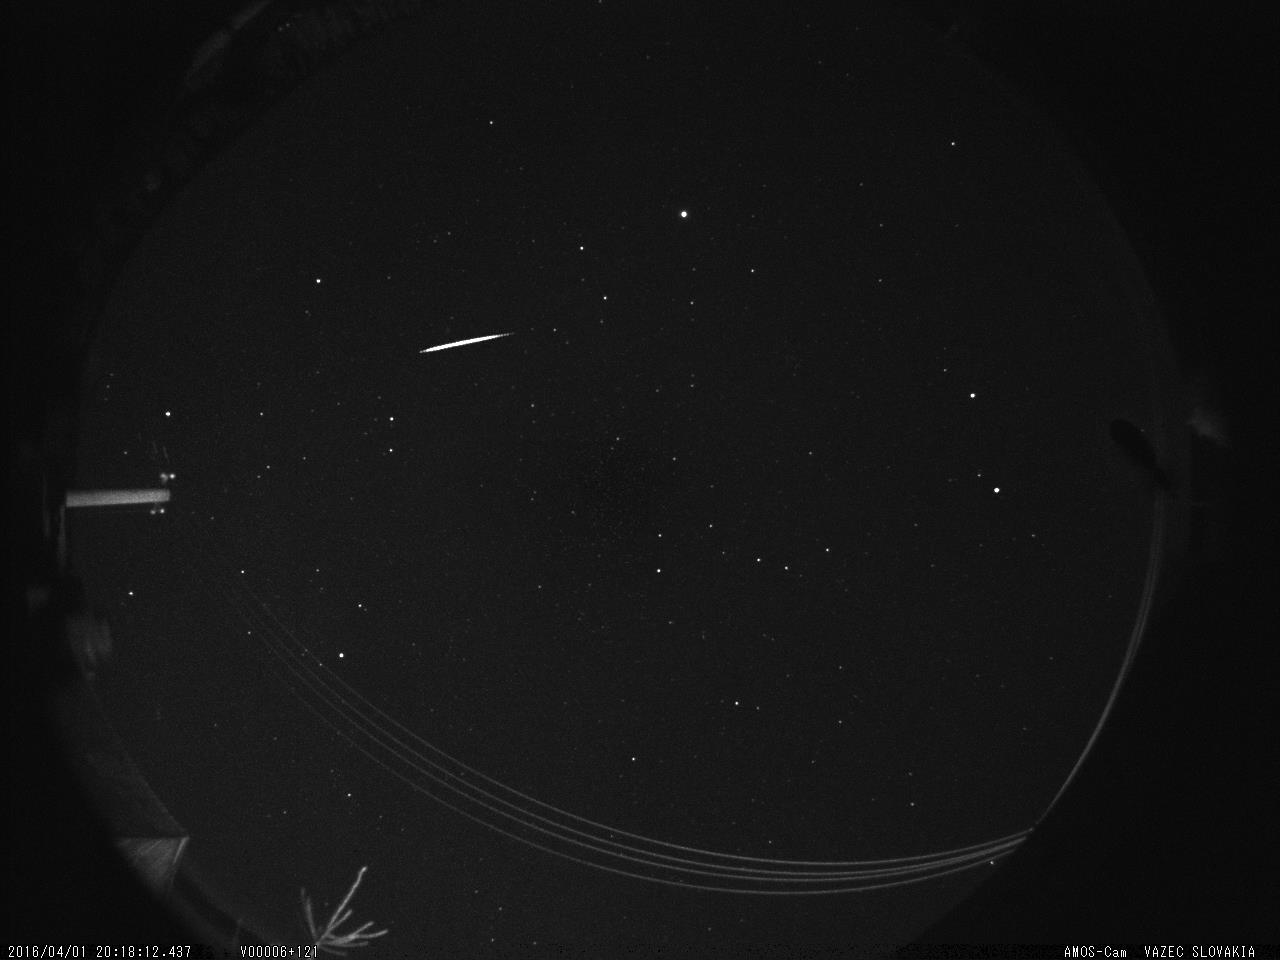meteor: (390, 320, 539, 361)
